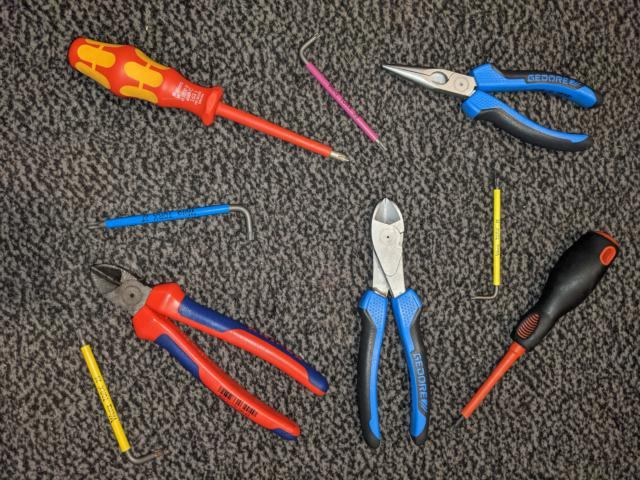Inbusschlüssel: (72, 323, 163, 467), (294, 32, 392, 154), (83, 199, 258, 246), (467, 171, 506, 301)
Schraubendreher: (63, 30, 351, 164), (446, 225, 626, 436)
Seitenschneider: (86, 260, 332, 447), (349, 193, 438, 452)
Zange: (376, 52, 608, 158)
